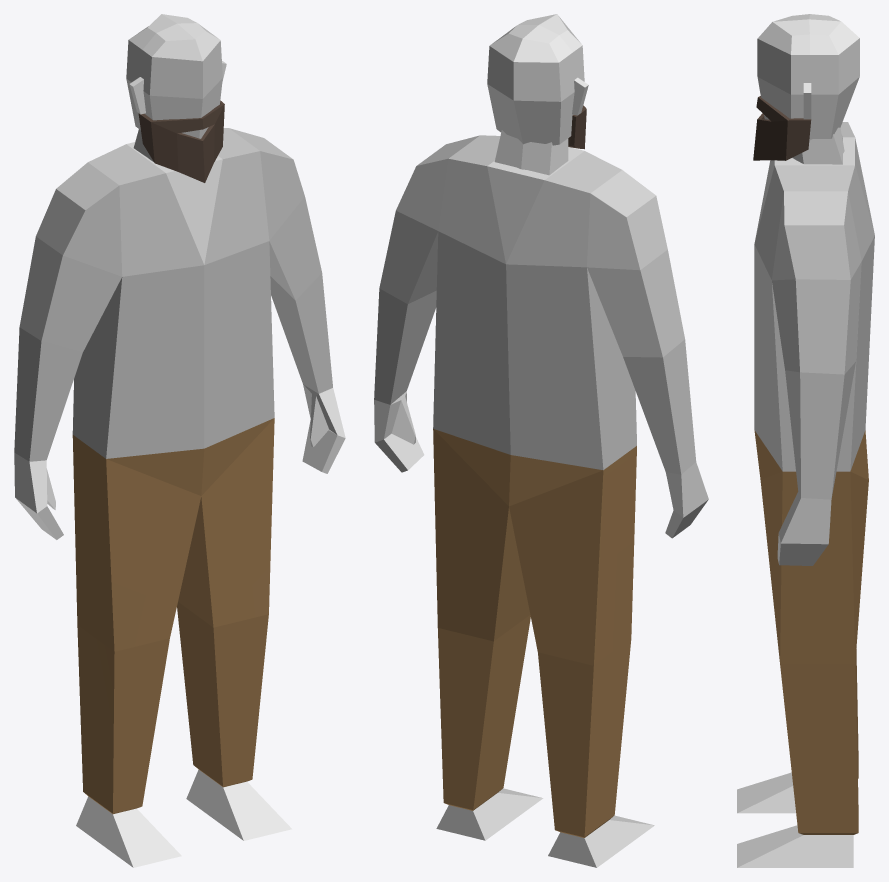
Rendered from man04.fbx.
The picture shows the model from 3 angles, left to right: view 1: azimuth 30°, elevation 25°; view 2: azimuth 150°, elevation 25°; view 3: azimuth 270°, elevation 25°; orthographic projection.
Visible parts, largest first — view 1: man04; view 2: man04; view 3: man04.
Boxes of the visible parts, bbox=[...] form: man04: bbox=[14, 14, 345, 867]; man04: bbox=[374, 14, 708, 867]; man04: bbox=[737, 14, 874, 867].
Size of the model in its own units: 0.7247 by 1.79 by 0.277.
